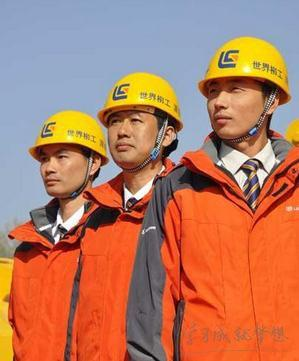helmet: (196, 35, 294, 99), (98, 69, 187, 128), (27, 109, 110, 164)
